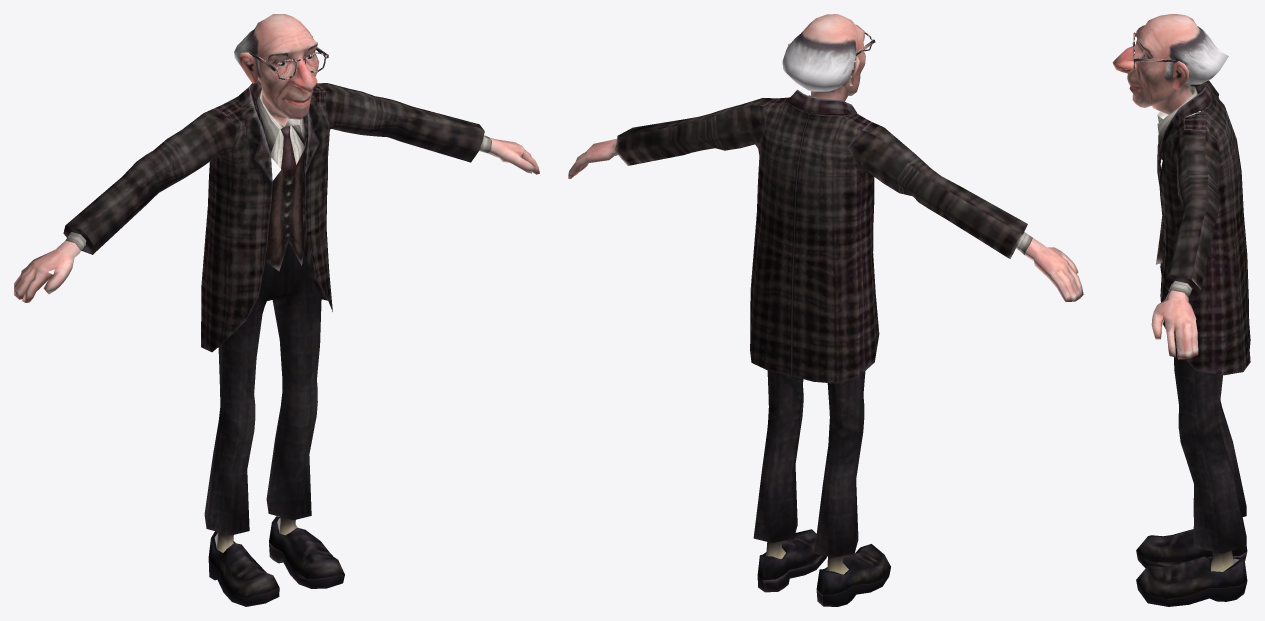
The model's file is Grandpa.gltf.
The picture shows the model from 3 angles, left to right: view 1: azimuth 30°, elevation 25°; view 2: azimuth 150°, elevation 25°; view 3: azimuth 270°, elevation 25°; orthographic projection. The views are drawn at different scales.
Visible parts, largest first — view 1: mesh_1; view 2: mesh_1; view 3: mesh_1, mesh.
Boxes of the visible parts, bbox=[...] form: mesh_1: bbox=[14, 14, 539, 606]; mesh_1: bbox=[568, 14, 1083, 606]; mesh_1: bbox=[1112, 14, 1250, 606]; mesh: bbox=[1132, 32, 1188, 69].
Bounding box in the file's own units: 47.62 × 50 × 11.09.
1 material, 1 textured.
